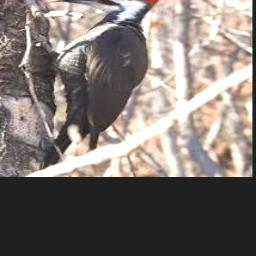Woodpecker: (48, 0, 166, 168)
